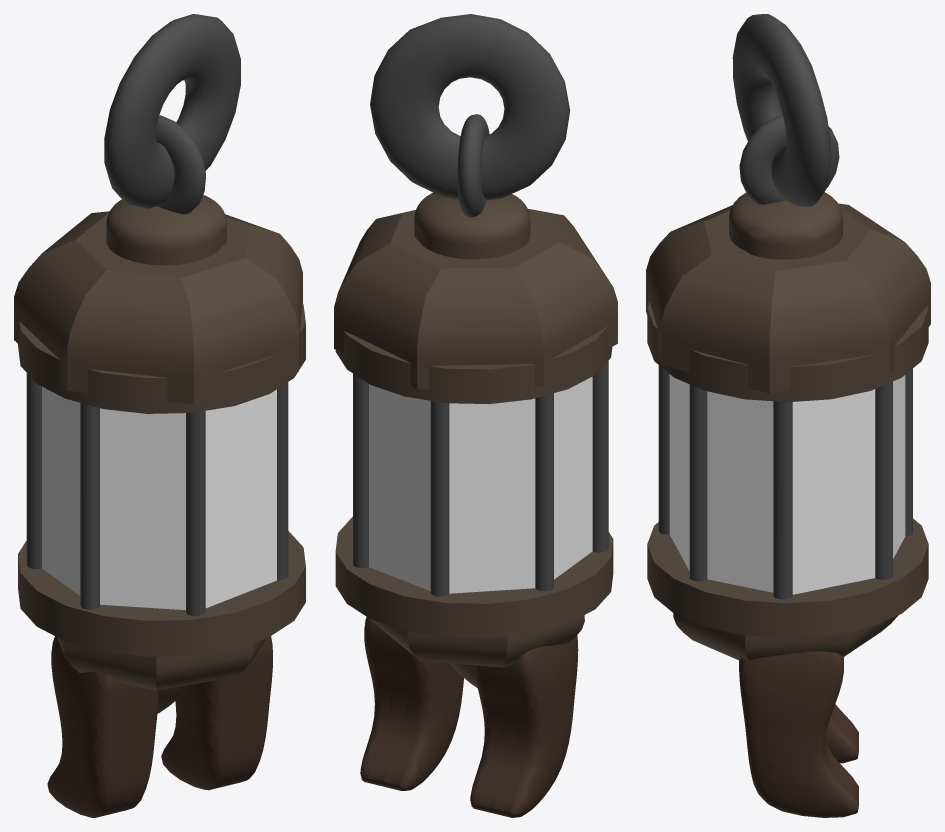
Rendered from CTCH312_Lantern_Unity.fbx.
3 renders of one model, left to right at view 1: azimuth 30°, elevation 25°; view 2: azimuth 150°, elevation 25°; view 3: azimuth 270°, elevation 25°, orthographic. The views are drawn at different scales.
Parts seen in each view (by area): view 1: polySurface20; view 2: polySurface20; view 3: polySurface20.
Boxes of the visible parts, bbox=[...] form: polySurface20: bbox=[14, 14, 305, 817]; polySurface20: bbox=[334, 14, 617, 817]; polySurface20: bbox=[646, 14, 930, 817].
Bounding box in the file's own units: 0.5487 × 1.6 × 0.5419.
